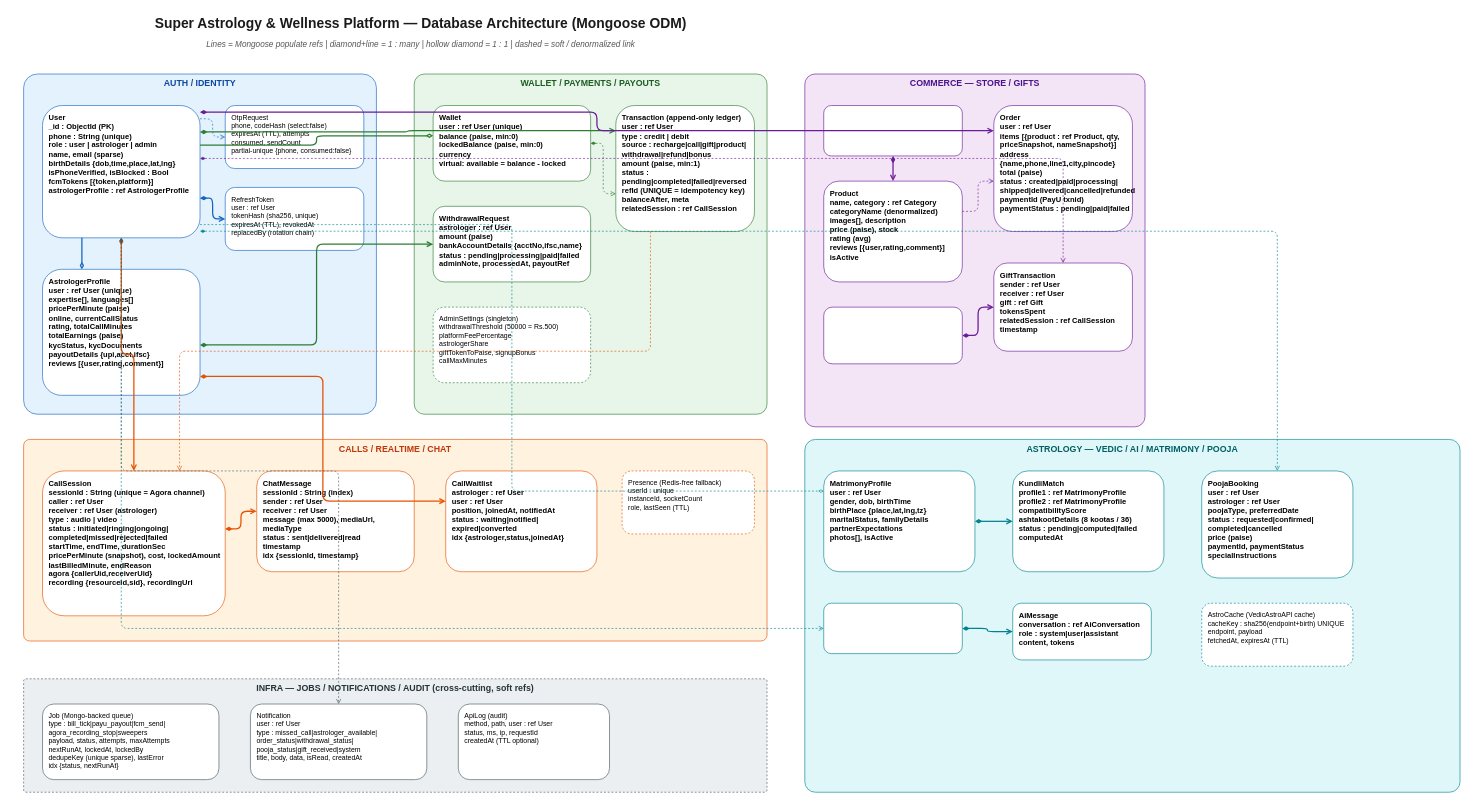
This 1471x803 diagram has some shape labels left out. Here are the shapes that lost their labels. From the top down, the centre of each, then its label:
point 892,130: Category name (unique), slug image, isActive
point 892,335: Gift name, image tokenCost (int) isActive
point 892,628: AiConversation user : ref User title, lastMessageAt
